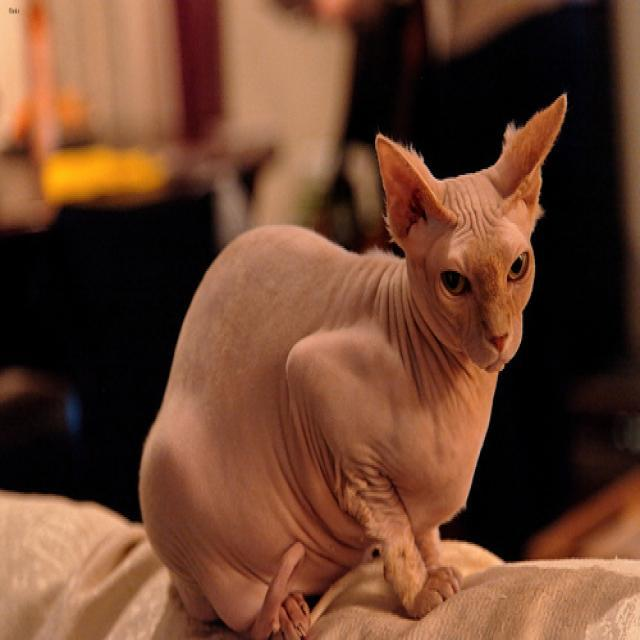Sphynx: (374, 92, 566, 369)
